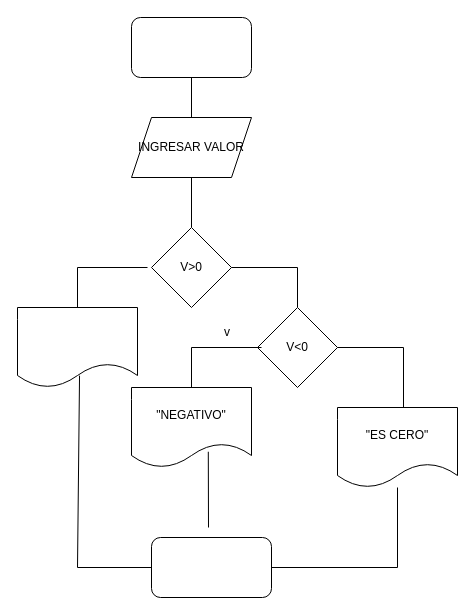
This 475x615 diagram has some shape labels left out. Here are the shapes that lost their labels. From the top down, the centre of each, then its label:
(x=191, y=47): INICIO
(x=77, y=347): "POSITIVO
(x=211, y=567): FIN
